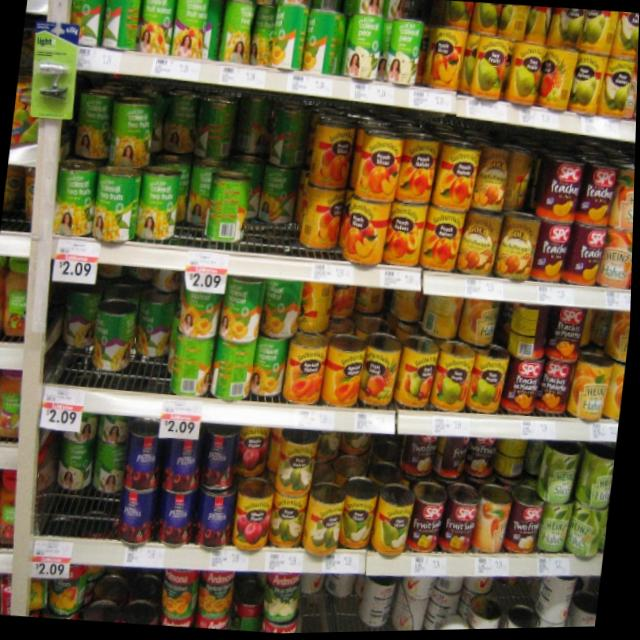q91: (202, 157, 256, 253), (137, 165, 188, 253), (88, 164, 139, 250), (204, 0, 260, 76), (340, 8, 389, 87), (383, 13, 424, 102), (110, 105, 160, 176), (216, 286, 266, 356), (305, 9, 353, 81), (136, 0, 180, 60), (170, 0, 210, 58), (186, 284, 222, 344)
